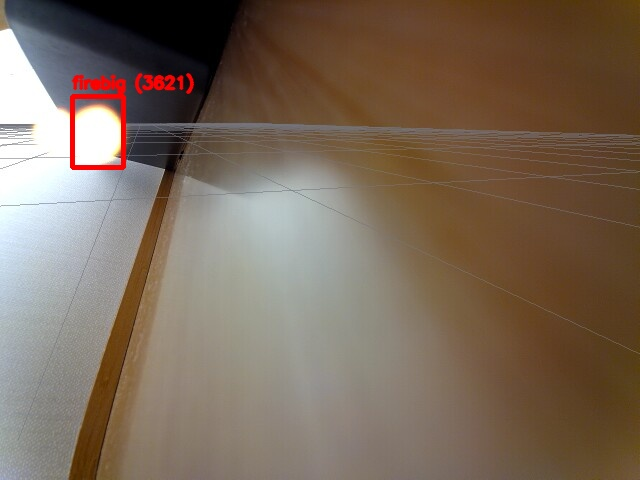firebig: (72, 96, 123, 167)
